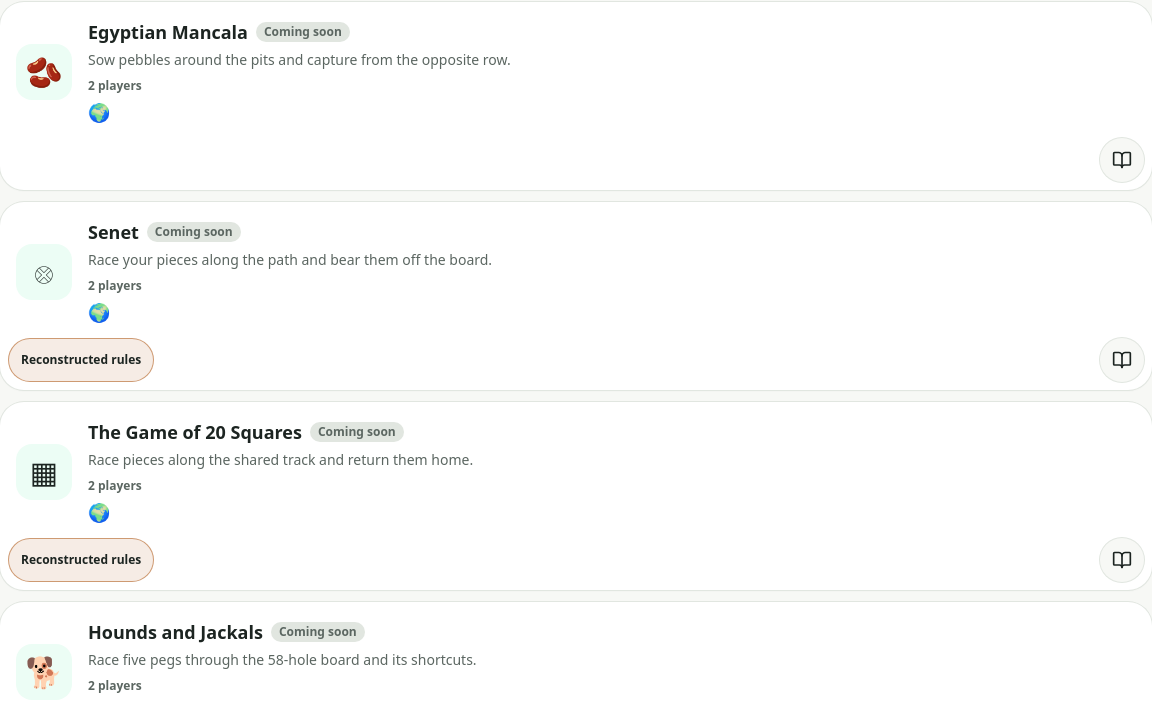
Test: How to play rules › lists Egyptian games and explains that reconstructed rules are modern choices
(page scrolled)
Click the button with aria-label "About reconstructed rules for Senet". click: [81, 360]
box: [8,338,154,382]
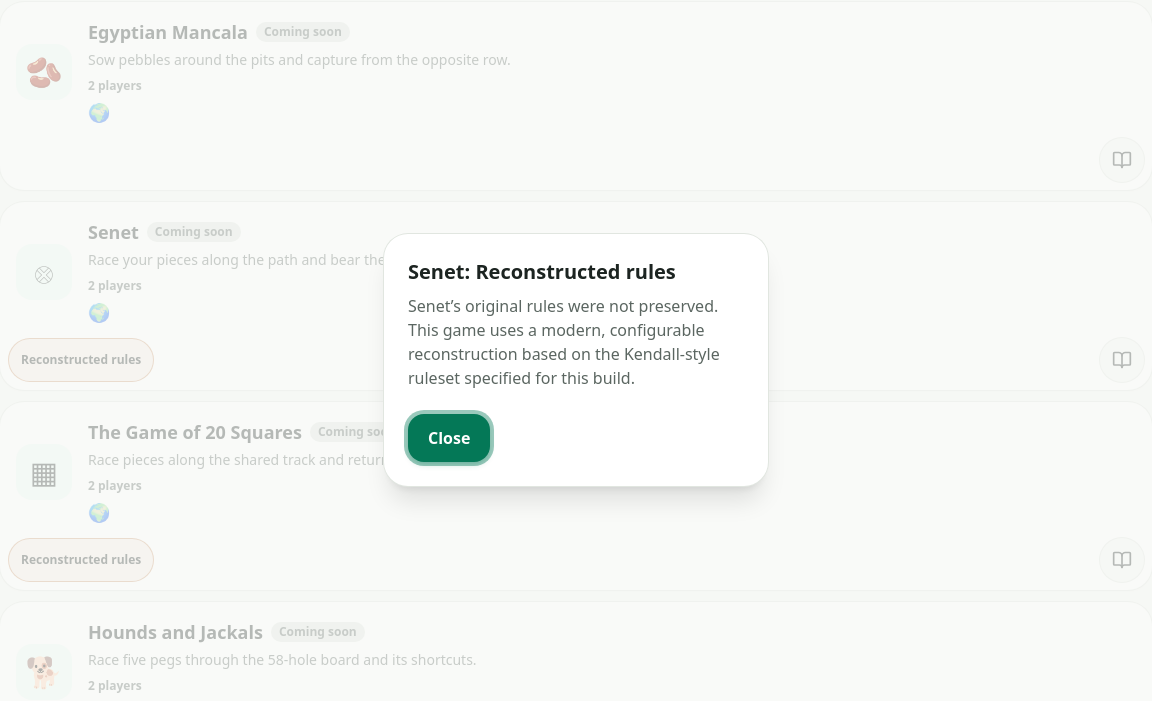
Now the heading "Senet: Reconstructed rules" is shown, box [408,258,676,285]
Now the text "original rules were not preserved" is shown, box [408,295,720,389]
